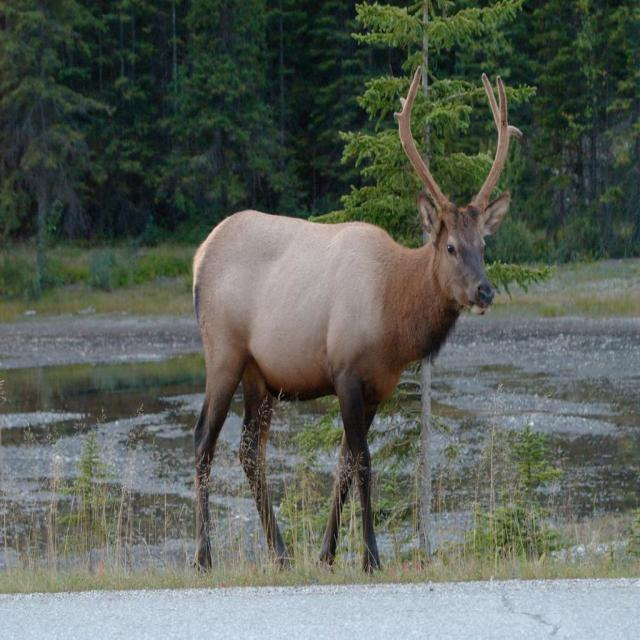Deer: (185, 62, 518, 593)
